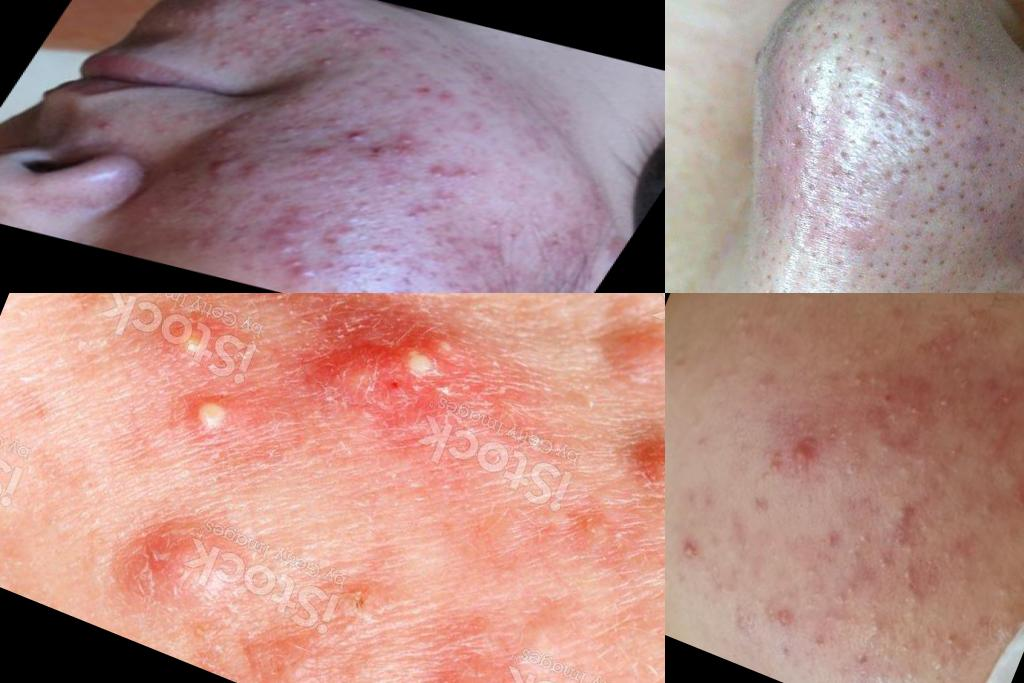blackhead: (763, 165, 866, 260), (884, 55, 988, 149), (800, 101, 893, 190), (845, 190, 926, 285), (817, 33, 903, 120), (859, 1, 971, 67), (916, 160, 1000, 243), (744, 66, 820, 155), (905, 233, 1010, 294), (876, 126, 949, 202), (776, 8, 846, 81), (965, 101, 1024, 174), (759, 253, 856, 294), (986, 188, 1024, 263)
cystic: (84, 462, 283, 664), (387, 631, 526, 683), (602, 408, 666, 519), (194, 144, 249, 187)
papular: (258, 202, 333, 257), (773, 424, 838, 483), (450, 238, 508, 279), (873, 490, 928, 533), (402, 192, 460, 230), (329, 120, 382, 154), (409, 81, 467, 110), (317, 221, 363, 254), (212, 37, 263, 66), (299, 13, 347, 43), (280, 254, 326, 285), (364, 277, 439, 294), (339, 199, 382, 227), (311, 108, 357, 134), (274, 119, 317, 145), (373, 173, 410, 196), (367, 239, 401, 262)
purulent: (133, 294, 261, 390), (158, 367, 265, 462), (71, 106, 140, 145), (668, 520, 713, 569), (220, 100, 280, 135), (294, 44, 354, 78), (294, 135, 345, 168), (232, 5, 275, 30), (286, 1, 343, 15)
sebo-crystan-conglo: (296, 294, 495, 457), (359, 122, 429, 170), (331, 11, 402, 50), (419, 156, 481, 193)
whitehead: (896, 617, 979, 683), (945, 294, 997, 345), (851, 600, 899, 651), (721, 302, 766, 344), (892, 557, 931, 598), (763, 603, 803, 640), (844, 523, 877, 565), (726, 605, 760, 642), (928, 388, 964, 422), (895, 445, 937, 474), (951, 370, 981, 407), (973, 487, 1006, 520), (940, 355, 974, 387), (994, 574, 1024, 606), (835, 579, 864, 611), (753, 371, 782, 403), (869, 433, 902, 461), (873, 548, 900, 577), (995, 385, 1023, 412), (891, 661, 925, 683), (863, 342, 892, 367), (941, 439, 968, 465), (800, 561, 823, 586), (839, 349, 860, 375), (882, 409, 905, 432), (974, 547, 992, 573), (848, 371, 867, 392)
